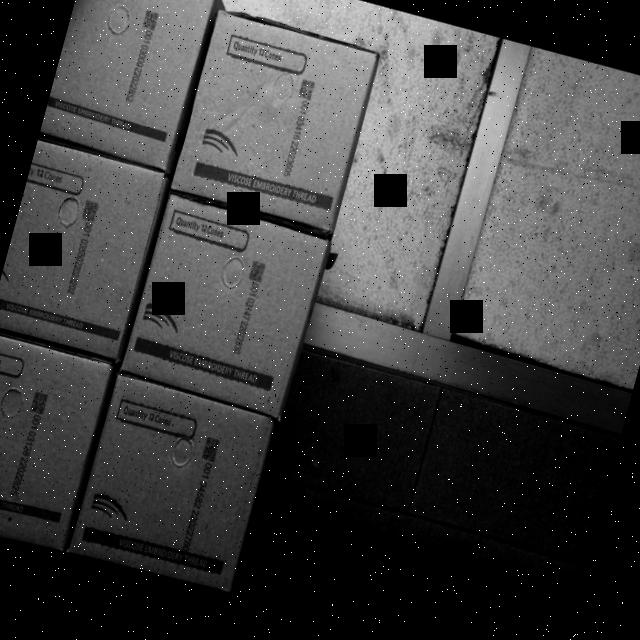box: (168, 6, 382, 235), (68, 370, 283, 595), (124, 192, 330, 418), (0, 134, 171, 361), (37, 0, 217, 173), (0, 331, 112, 553)
